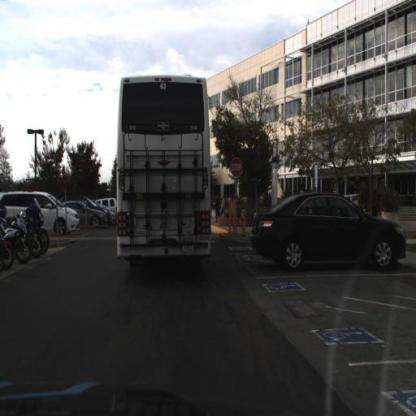car: (249, 190, 408, 272), (41, 189, 80, 237), (78, 204, 108, 229), (98, 194, 119, 212)
pedestrian: (215, 192, 222, 226)
truck: (112, 68, 214, 277)
